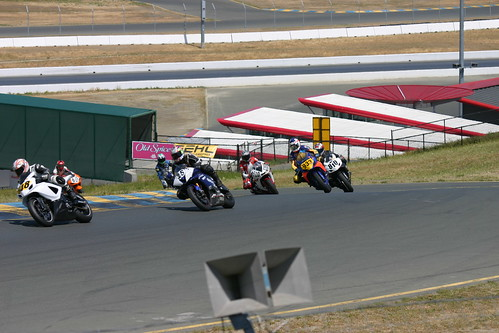helmet: (10, 154, 29, 172), (166, 145, 187, 159), (237, 146, 252, 161), (287, 135, 301, 149), (315, 139, 326, 150), (53, 159, 65, 168), (153, 152, 165, 161)
